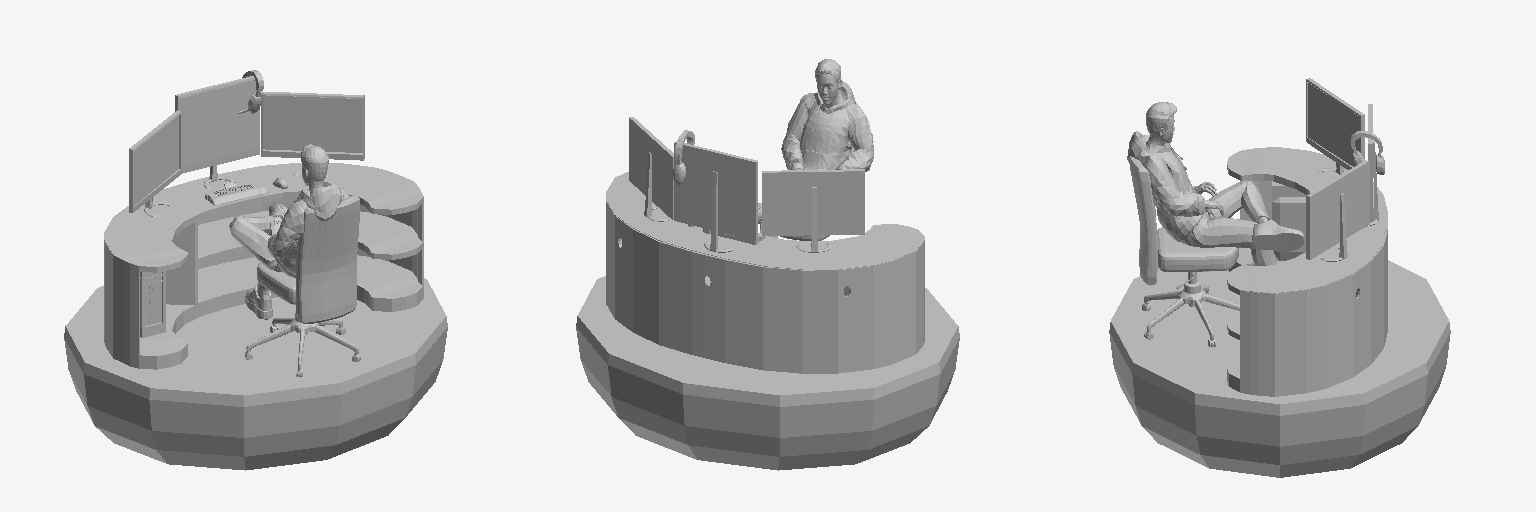
The model's file is room3.obj.
3 views of the same model, side by side, from view 1: azimuth 30°, elevation 25°; view 2: azimuth 150°, elevation 25°; view 3: azimuth 270°, elevation 25° (orthographic).
Visible parts, largest first — view 1: Cube_001_Cube.015, Cube_006_Cube.016, Cube_003_Cube.020, Cube.069_Cube.000, Cube_002_Cube.077, Cube_011_Cube.078, Wolf3D_Outfit_Top_Wolf3D_Outfit_Top.001, Cube_013_Cube.079, Cube_005_Cube.007, Cylinder.002_Cylinder.000, Wolf3D_Outfit_Bottom_Wolf3D_Outfit_Bottom.001, Cube_019.001_Cube.002 (+6 smaller); view 2: Cube_001_Cube.015, Cube_006_Cube.016, Cube_003_Cube.020, Cube_019.002_Cube.003, Cube_019_Cube.055, Wolf3D_Outfit_Top_Wolf3D_Outfit_Top.001, Cube_019.001_Cube.002, Wolf3D_Head_Wolf3D_Head.001, Cylinder_002_Cylinder.016; view 3: Cube_001_Cube.015, Cube_006_Cube.016, Cube_003_Cube.020, Cube_019.001_Cube.002, Wolf3D_Outfit_Top_Wolf3D_Outfit_Top.001, Wolf3D_Outfit_Bottom_Wolf3D_Outfit_Bottom.001, Cube_013_Cube.079, Chair_Cube.001, Cube.069_Cube.000, Cylinder.002_Cylinder.000, Cube_005_Cube.007, Wolf3D_Outfit_Footwear_Wolf3D_Outfit_Footwear.001 (+4 smaller).
Boxes of the visible parts, box(x1,y1,x2,y2) form: Cube_001_Cube.015: box(104, 163, 423, 369); Cube_006_Cube.016: box(64, 316, 447, 470); Cube_003_Cube.020: box(66, 278, 445, 395); Cube.069_Cube.000: box(296, 195, 359, 323); Cube_002_Cube.077: box(179, 80, 258, 166); Cube_011_Cube.078: box(263, 96, 360, 152); Wolf3D_Outfit_Top_Wolf3D_Outfit_Top.001: box(267, 182, 349, 277); Cube_013_Cube.079: box(134, 116, 178, 205); Cube_005_Cube.007: box(140, 271, 165, 337); Cylinder.002_Cylinder.000: box(245, 311, 360, 376); Wolf3D_Outfit_Bottom_Wolf3D_Outfit_Bottom.001: box(229, 216, 281, 289); Cube_019.001_Cube.002: box(261, 91, 364, 176); Cube_001_Cube.015: box(606, 172, 924, 373); Cube_006_Cube.016: box(576, 316, 959, 470); Cube_003_Cube.020: box(578, 276, 957, 395); Cube_019.002_Cube.003: box(762, 169, 864, 252); Cube_019_Cube.055: box(674, 141, 757, 252); Wolf3D_Outfit_Top_Wolf3D_Outfit_Top.001: box(781, 82, 873, 171); Cube_019.001_Cube.002: box(629, 117, 673, 221); Wolf3D_Head_Wolf3D_Head.001: box(817, 73, 842, 108); Cylinder_002_Cylinder.016: box(673, 130, 694, 184); Cube_001_Cube.015: box(1227, 147, 1387, 396); Cube_006_Cube.016: box(1109, 322, 1450, 477); Cube_003_Cube.020: box(1111, 260, 1448, 403); Cube_019.001_Cube.002: box(1306, 160, 1369, 261); Wolf3D_Outfit_Top_Wolf3D_Outfit_Top.001: box(1127, 131, 1208, 241); Wolf3D_Outfit_Bottom_Wolf3D_Outfit_Bottom.001: box(1182, 180, 1276, 265); Cube_013_Cube.079: box(1308, 83, 1359, 166); Chair_Cube.001: box(1157, 227, 1238, 271); Cube.069_Cube.000: box(1128, 156, 1157, 285); Cylinder.002_Cylinder.000: box(1142, 272, 1239, 346); Cube_005_Cube.007: box(1272, 181, 1306, 260); Wolf3D_Outfit_Footwear_Wolf3D_Outfit_Footwear.001: box(1252, 220, 1304, 251).
Size of the model in its own units: 6.38 by 5.39 by 5.47.